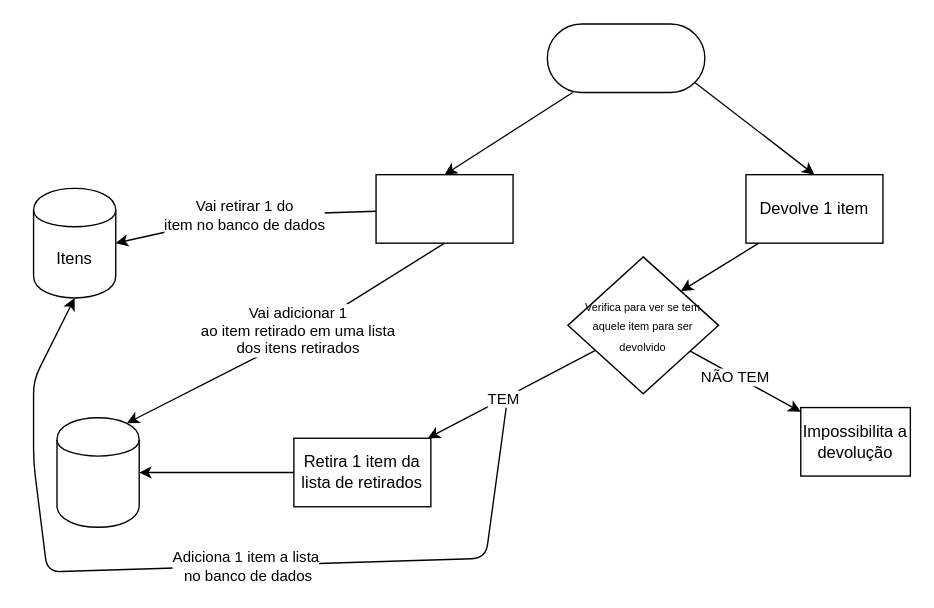
The diagram is 934 pixels wide and 608 high, and some of its shapes have lost their labels. Here are the shapes that lost their labels. From the top down, the centre of each, then its label:
At pixel 625 57: "Acessa o sistema".
At pixel 444 208: "Retira 1 item".
At pixel 97 471: "Itens retirados".
